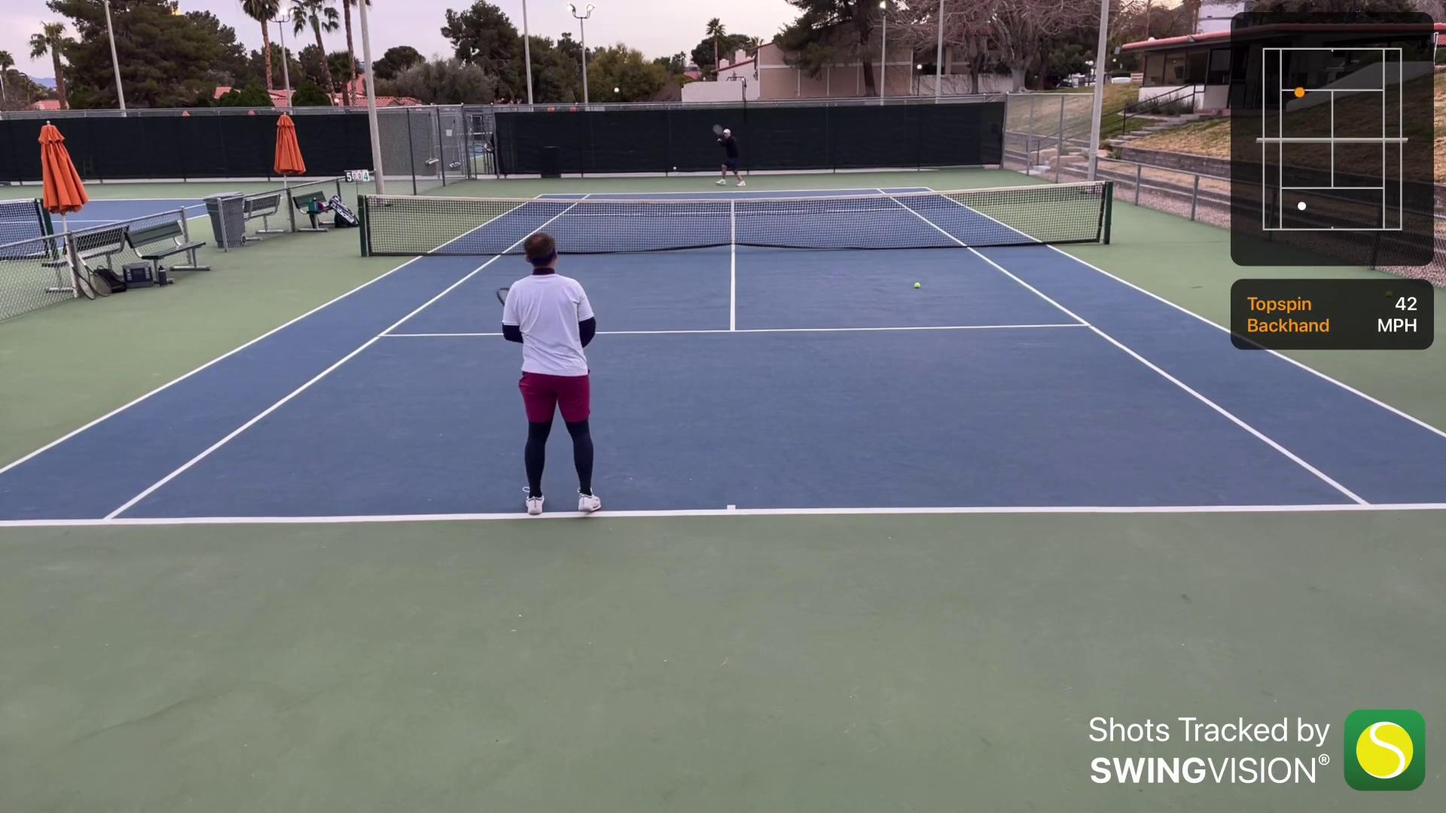ball: (912, 281, 921, 292), (672, 164, 679, 171)
